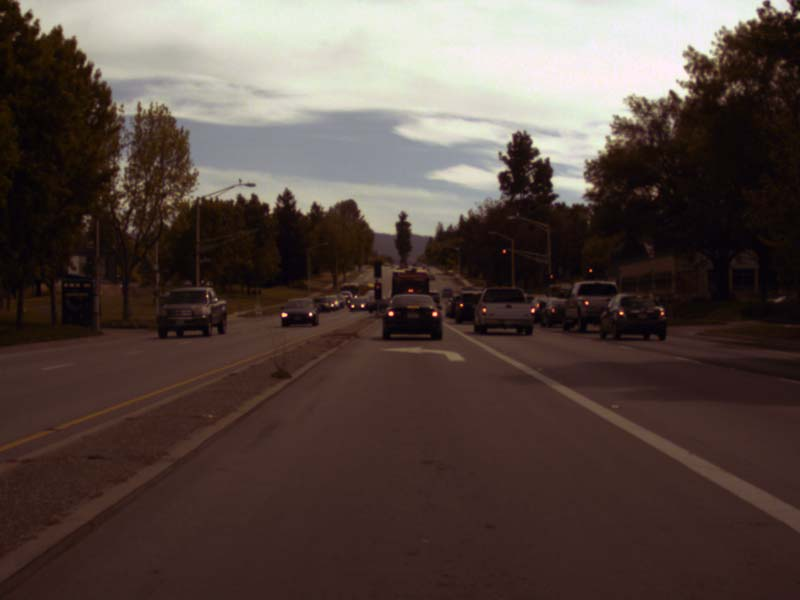Red: (375, 283, 380, 299), (501, 249, 506, 259), (549, 274, 553, 282), (588, 269, 592, 277)
